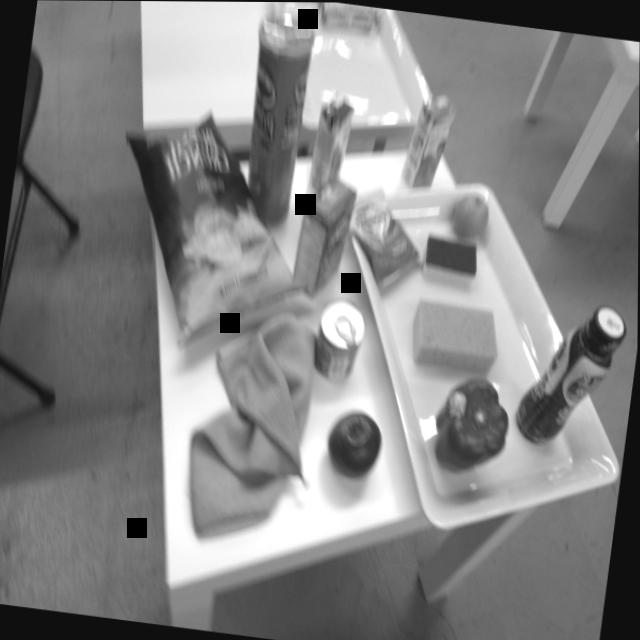apple: (322, 404, 390, 484)
cereal: (286, 172, 360, 303)
chocolate_drink: (511, 289, 633, 457)
crackers: (334, 182, 428, 295)
grape_juice: (173, 299, 326, 559), (301, 90, 357, 202)
orange: (449, 189, 493, 243)
orange_juice: (395, 84, 460, 197)
paprika: (426, 367, 516, 481)
potato_chips: (97, 98, 328, 362)
pringles: (236, 5, 319, 230)
sausages: (307, 291, 373, 388)
scrubby: (418, 232, 482, 292)
sponge_opl: (403, 290, 506, 381)
